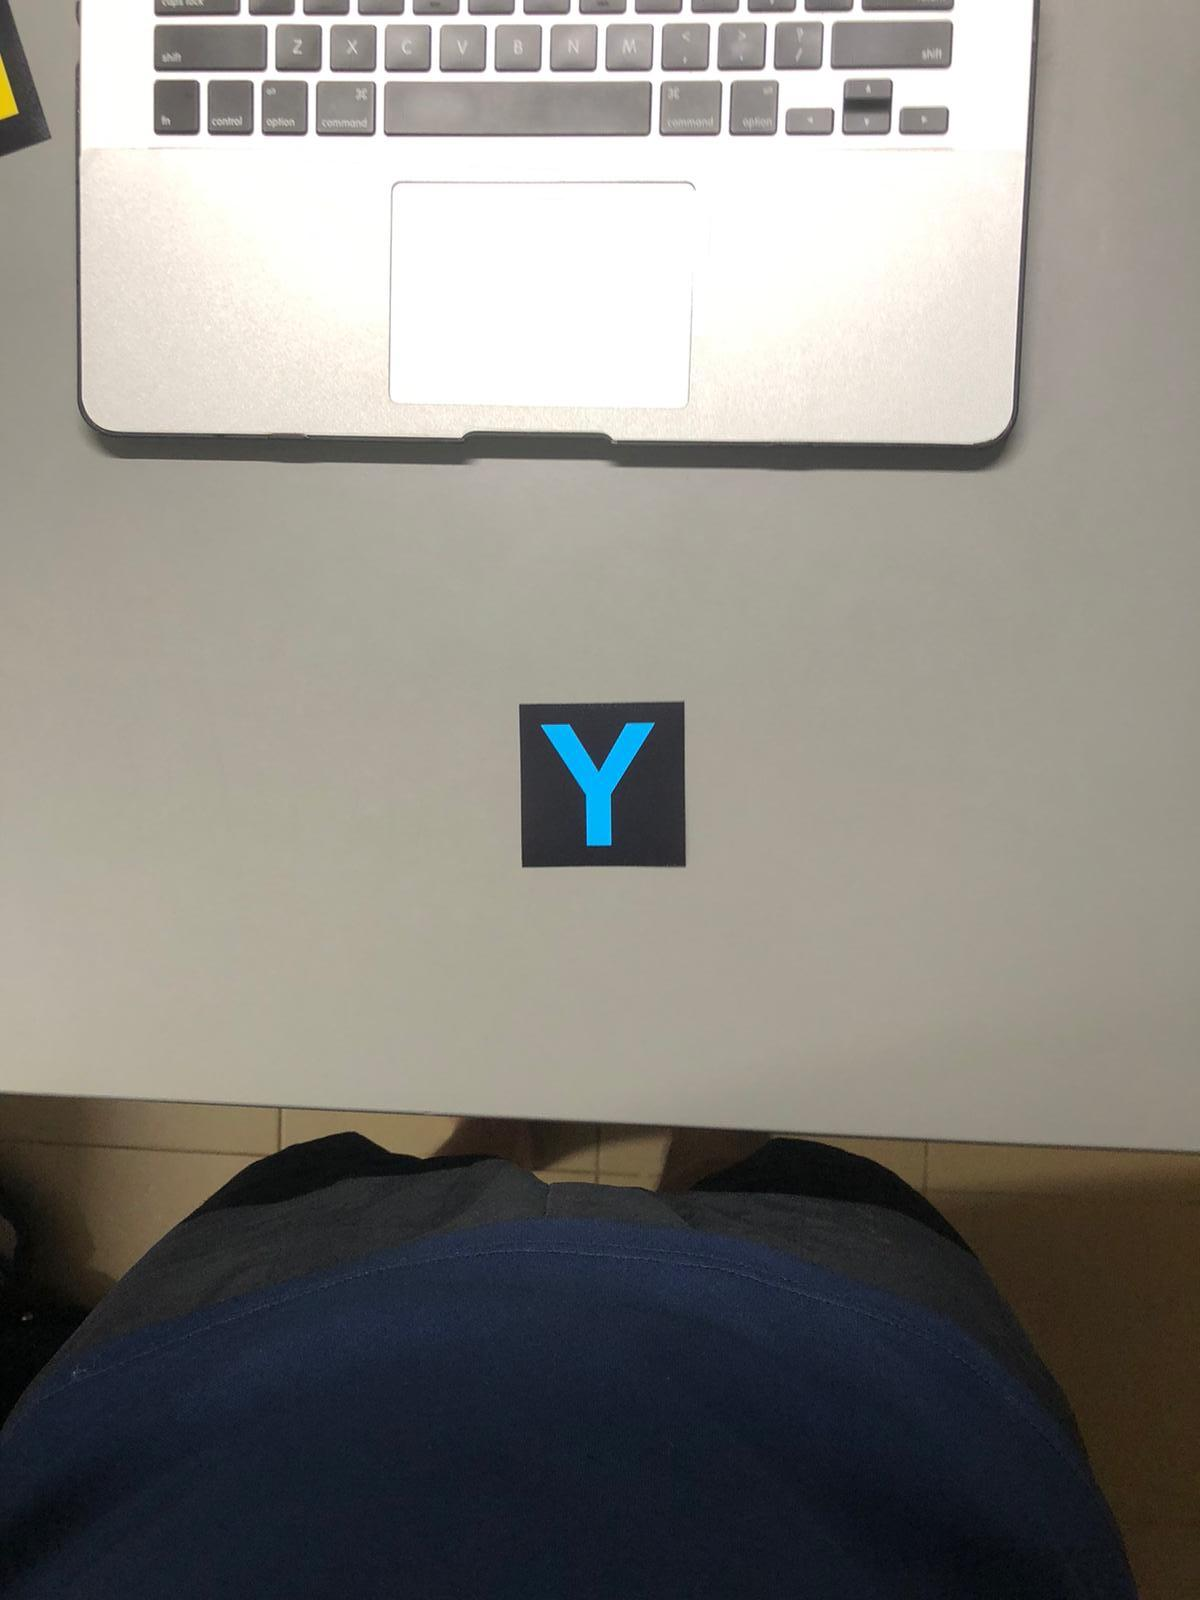Y: (518, 706, 691, 864)
